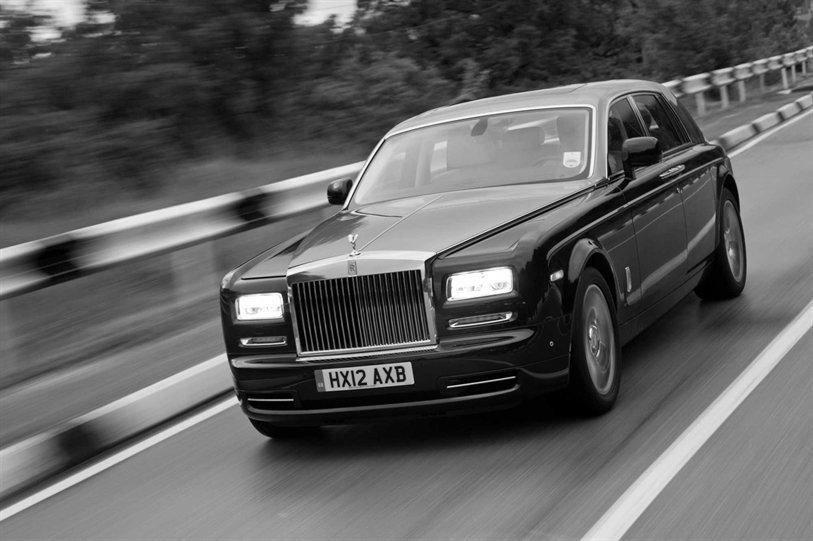car: (142, 69, 753, 451)
